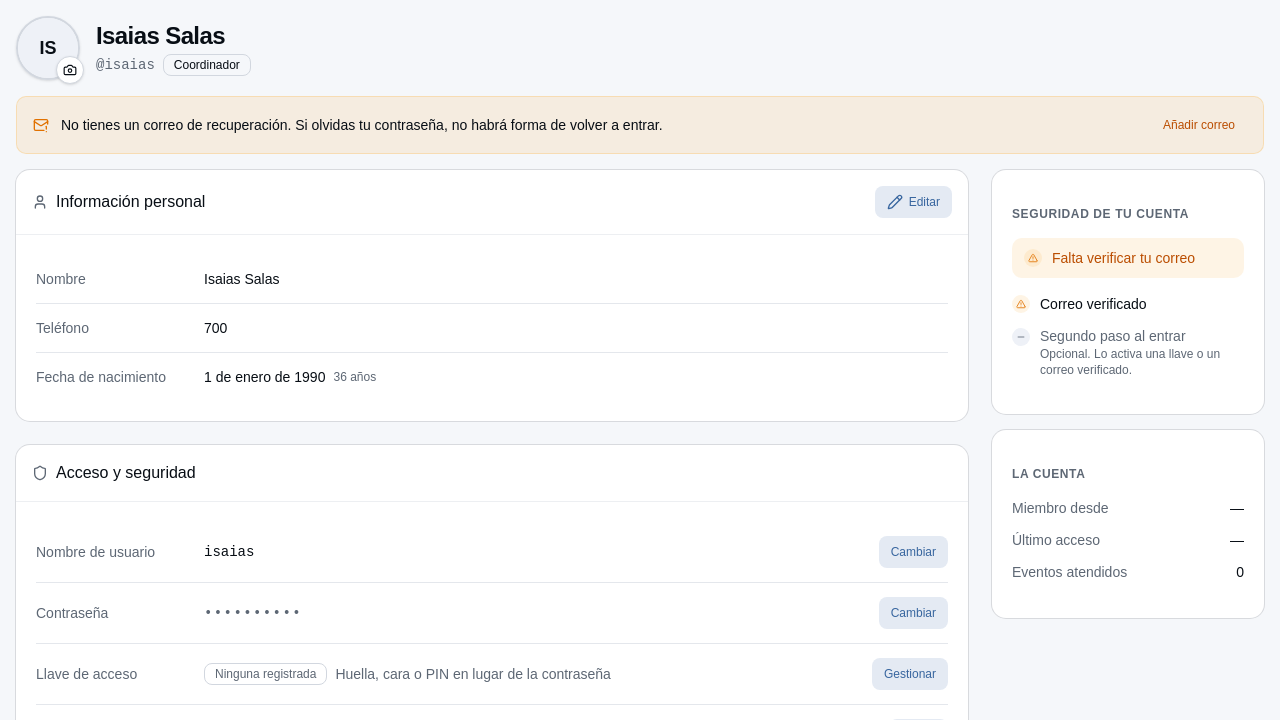
it: changing your own password from the profile page › sends nothing when the confirmation does not match, and says so under it
This screenshot has width=1280, height=720.
Click the button with aria-label "cambiar contraseña". click: (913, 613)
box: [879,597,948,629]
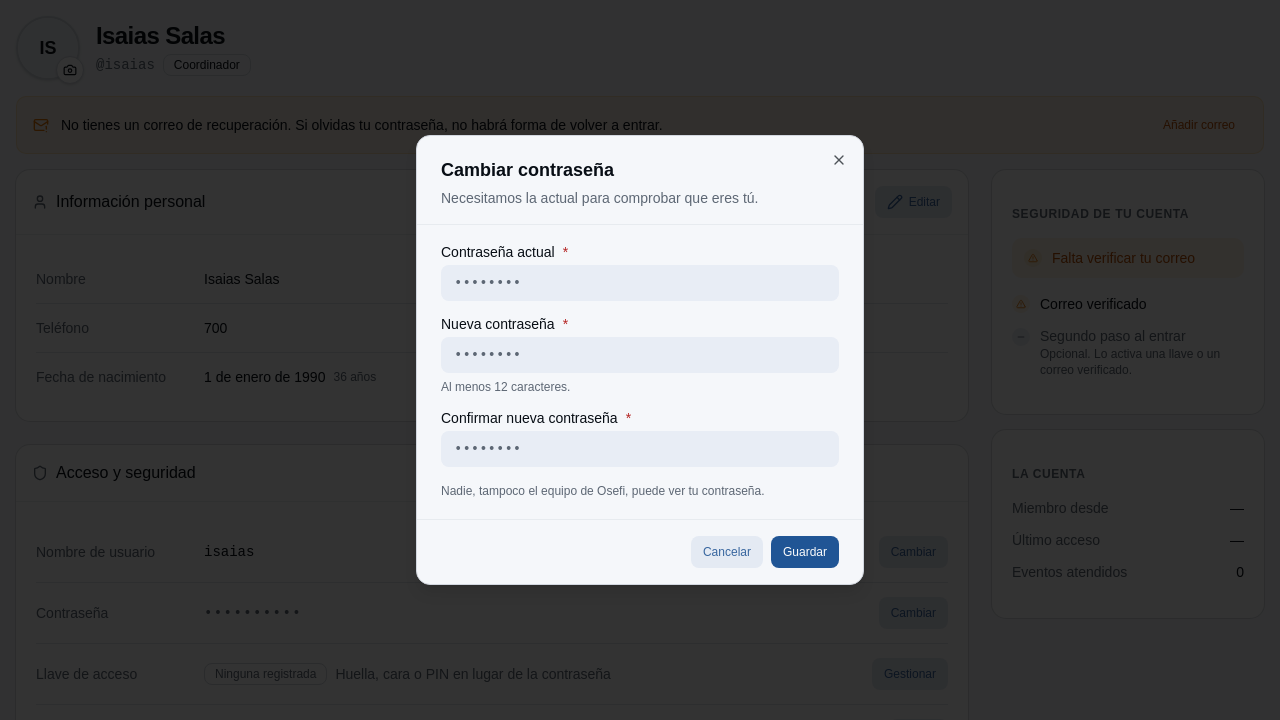
Type "la-mia" into the password field labelled "Contraseña actual *". click: (640, 283)
box: [441,265,839,301]
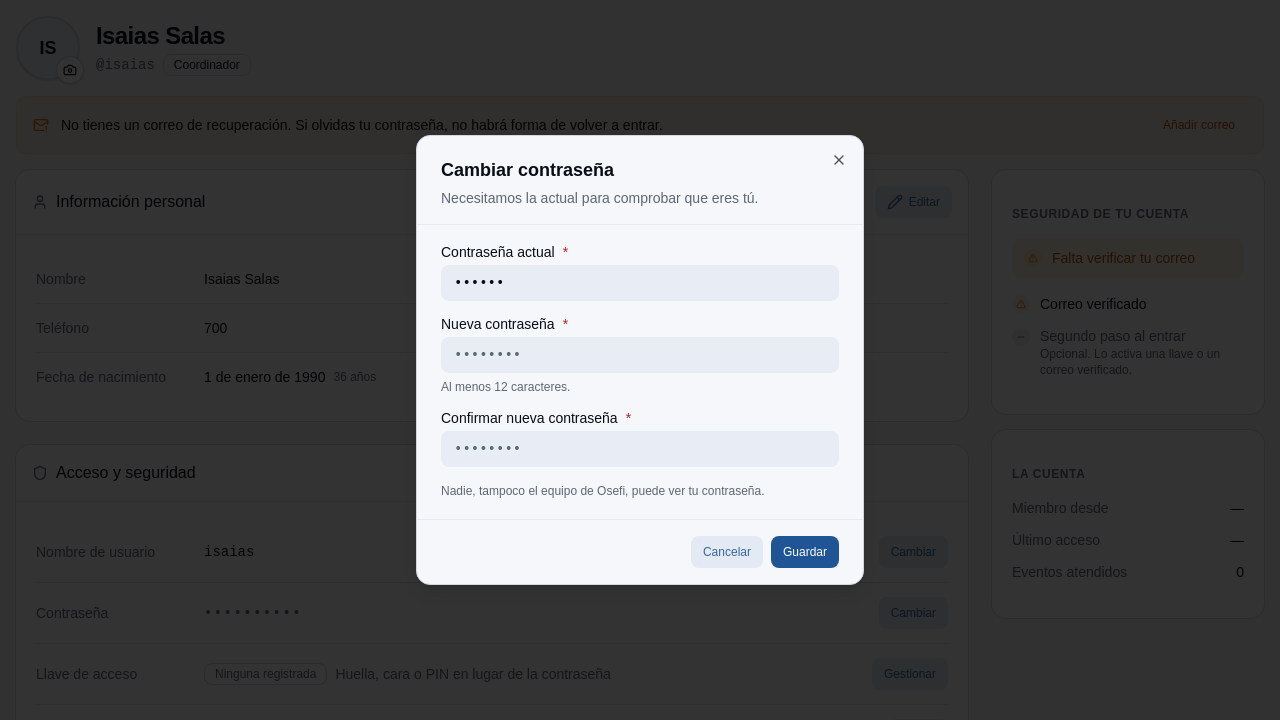
Type "una-clave-de-prueba" into the password field labelled "Nueva contraseña *". click: (640, 355)
box: [441,337,839,373]
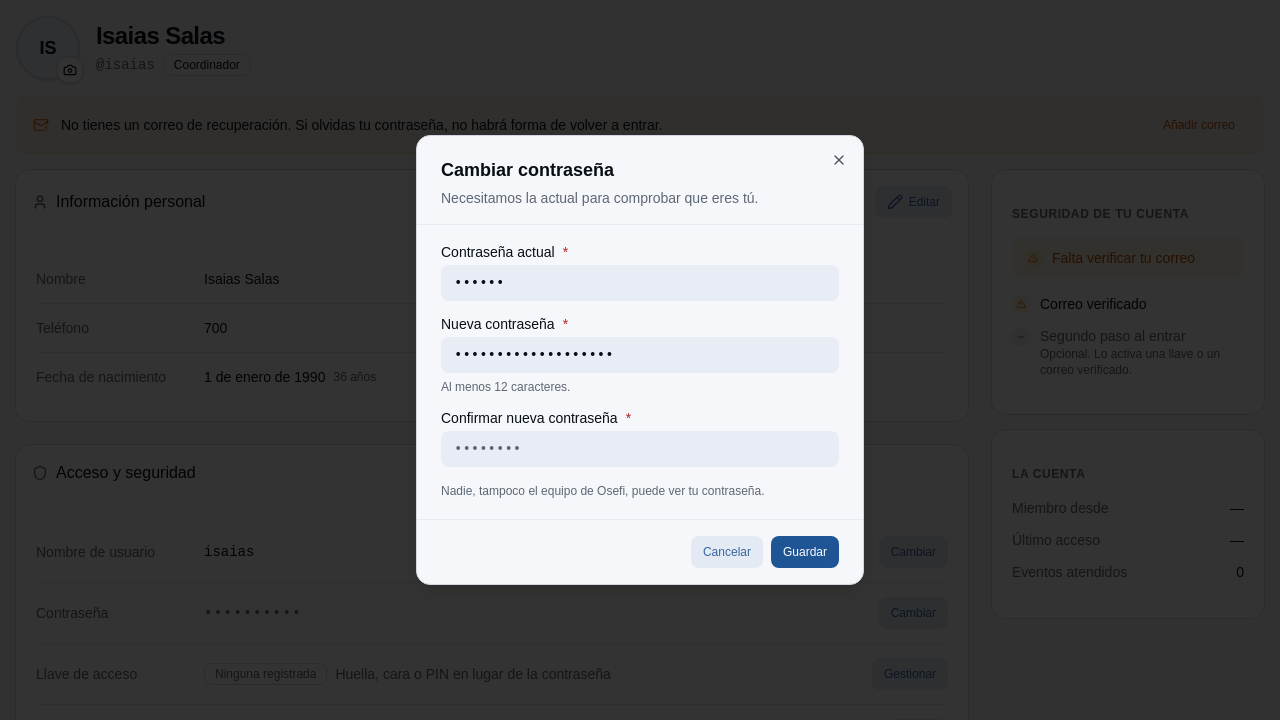
Type "otra-clave-distinta" into the password field labelled "Confirmar nueva contraseña *". click: (640, 449)
box: [441,431,839,467]
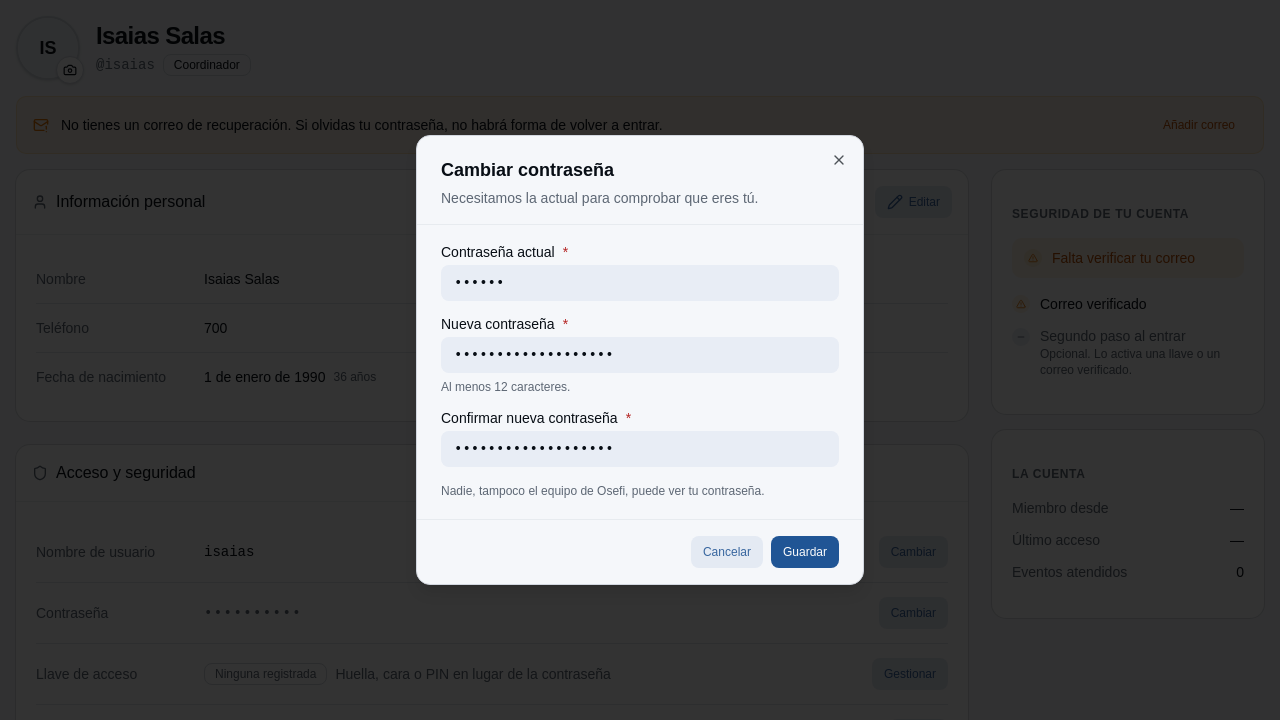
Click the button "Guardar". click: (805, 552)
box: [771,536,839,568]
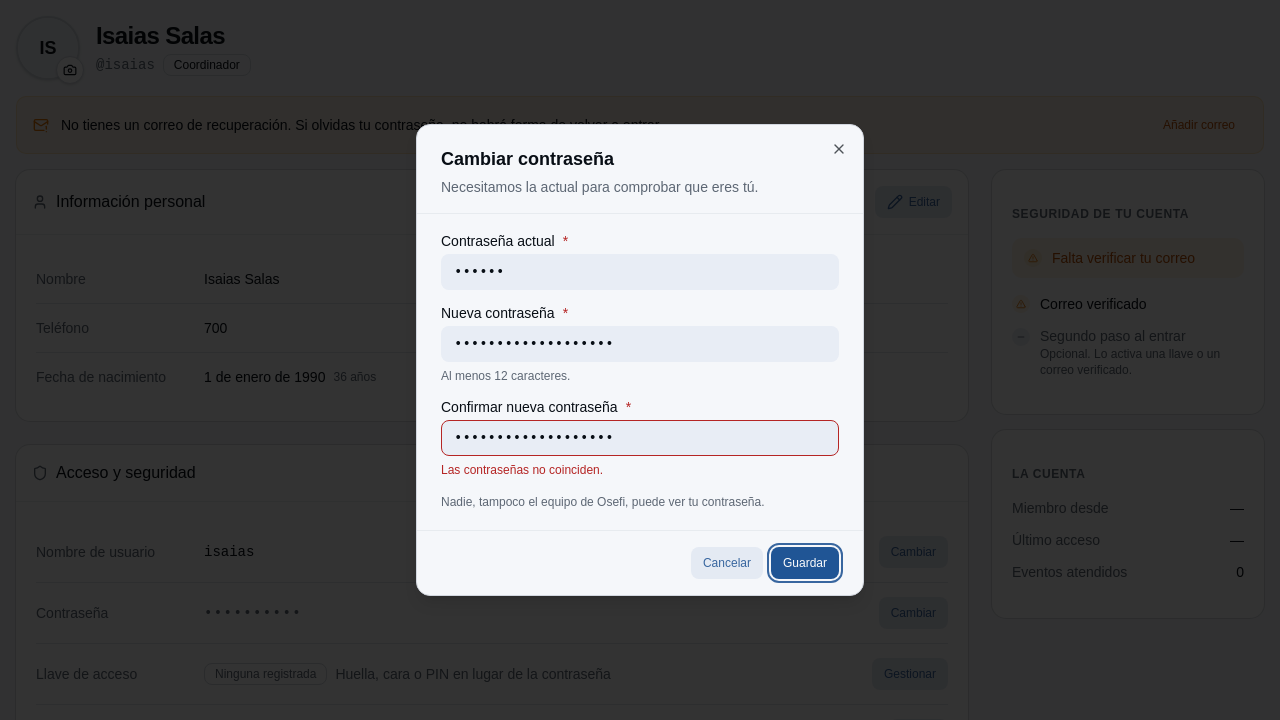
Now the message reads "Las contraseñas no coinciden.", box [441,463,603,477]
